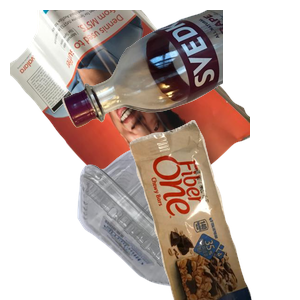glass: (60, 10, 300, 130)
paper: (10, 10, 250, 190)
plastic: (75, 147, 289, 300)
trash: (127, 120, 300, 300)
